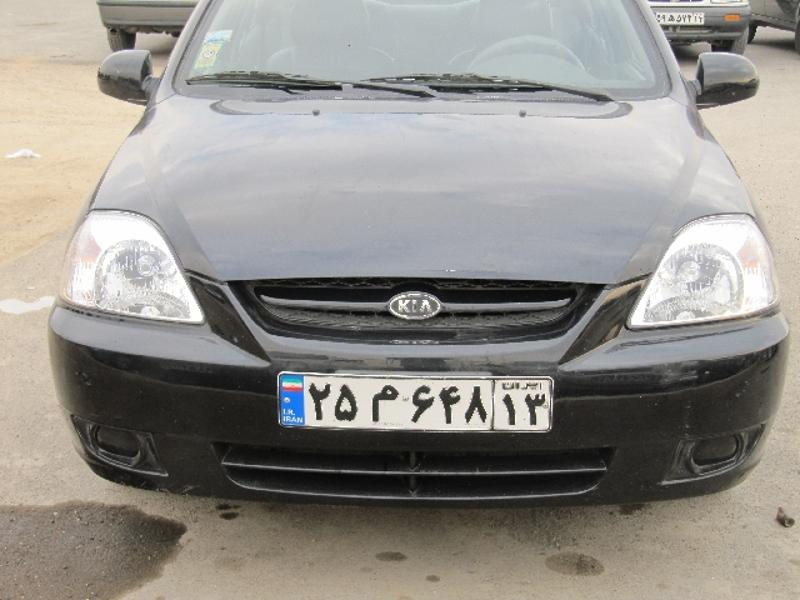Plate: (275, 374, 562, 438)
